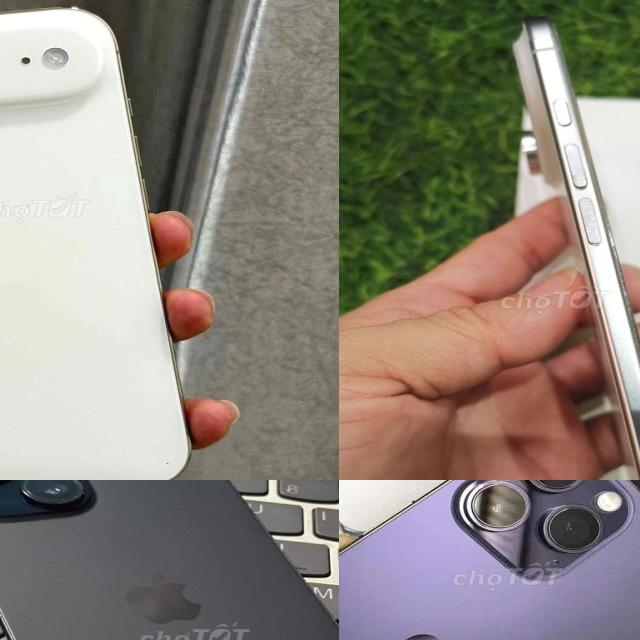gen_14: (339, 480, 640, 640)
gen_15: (0, 480, 339, 640)
gen_17: (0, 2, 209, 480), (500, 8, 640, 480)
